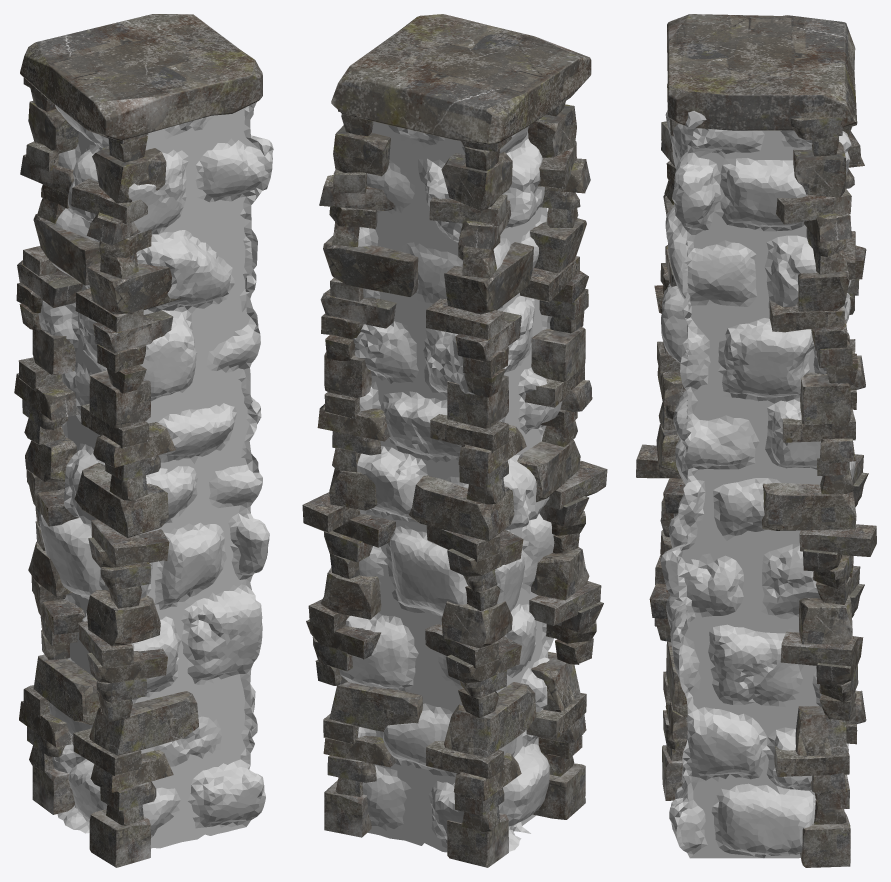
File: SM_CastleTower_Pillar_A_01.fbx
3 renders of one model, left to right at view 1: azimuth 30°, elevation 25°; view 2: azimuth 150°, elevation 25°; view 3: azimuth 270°, elevation 25°, orthographic.
Parts seen in each view (by area): view 1: SM_CastleTower_Pillar_A_01_LOD0; view 2: SM_CastleTower_Pillar_A_01_LOD0; view 3: SM_CastleTower_Pillar_A_01_LOD0.
Part boxes in pixels (x1,y1,x2,y2): SM_CastleTower_Pillar_A_01_LOD0: [14, 14, 273, 867]; SM_CastleTower_Pillar_A_01_LOD0: [302, 14, 607, 867]; SM_CastleTower_Pillar_A_01_LOD0: [636, 14, 876, 867].
Size of the model in its own units: 113 by 113 by 402.
